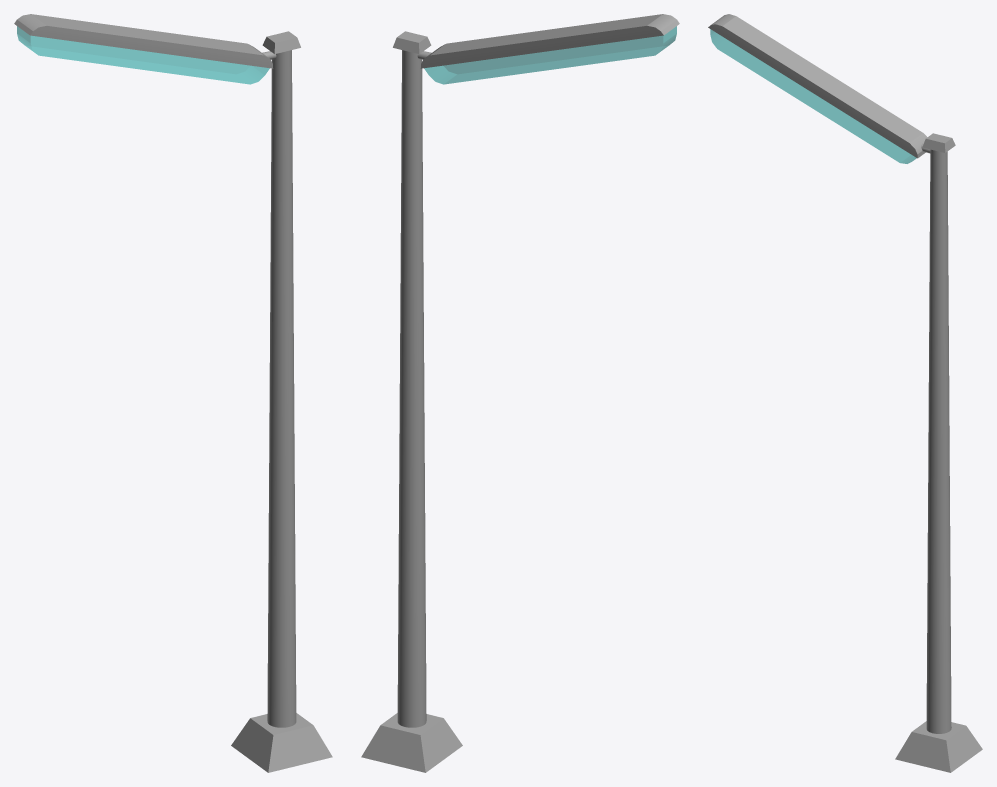
Rendered from light2.fbx.
3 views of the same model, side by side, from view 1: azimuth 30°, elevation 25°; view 2: azimuth 150°, elevation 25°; view 3: azimuth 330°, elevation 25° (orthographic). The views are drawn at different scales.
Visible parts, largest first — view 1: pillar, main, glass, base, top1; view 2: pillar, main, glass, base, top1; view 3: pillar, main, glass, base.
Part boxes in pixels (x1,y1,x2,y2): pillar: (262, 50, 296, 727); main: (14, 14, 273, 68); glass: (17, 26, 269, 84); base: (231, 713, 332, 772); top1: (262, 31, 300, 54); pillar: (397, 50, 431, 727); main: (420, 14, 679, 68); glass: (424, 26, 676, 84); base: (361, 713, 462, 772); top1: (393, 31, 431, 54); pillar: (921, 143, 951, 733); main: (708, 14, 927, 158); glass: (710, 29, 916, 163); base: (895, 721, 982, 772).
Bounding box in the file's own units: 17.3 × 44.76 × 3.83.
